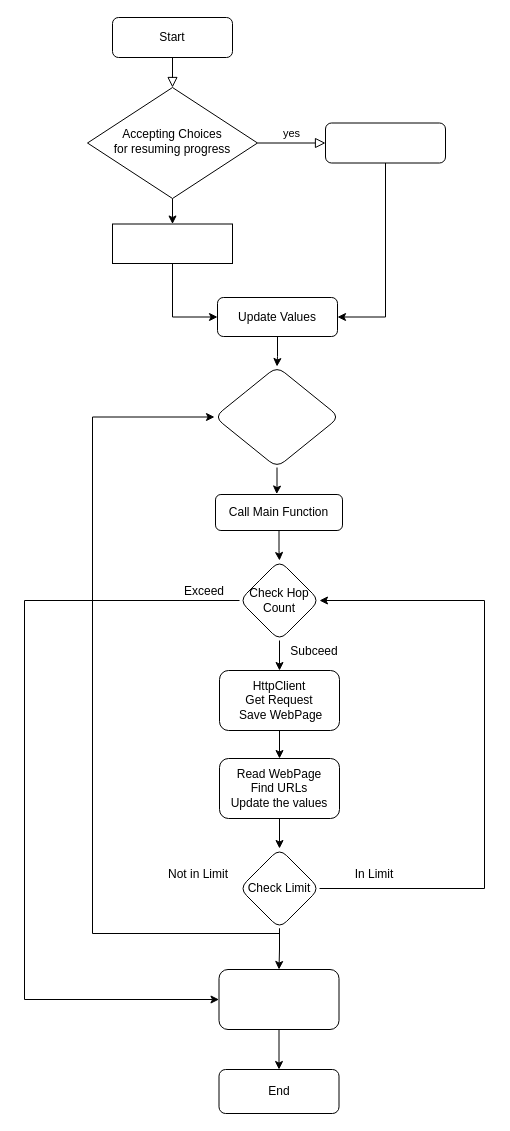
The diagram is 510 pixels wide and 1131 high, and some of its shapes have lost their labels. Each missing label, with the centre of its shape:
Accept URL from user: point (172, 243)
Cancel Set Interval: point (278, 999)
Read Files: point (385, 142)
Set Interval with limits: point (277, 417)
